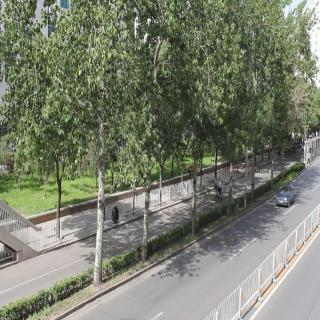Car: (275, 184, 296, 206)
